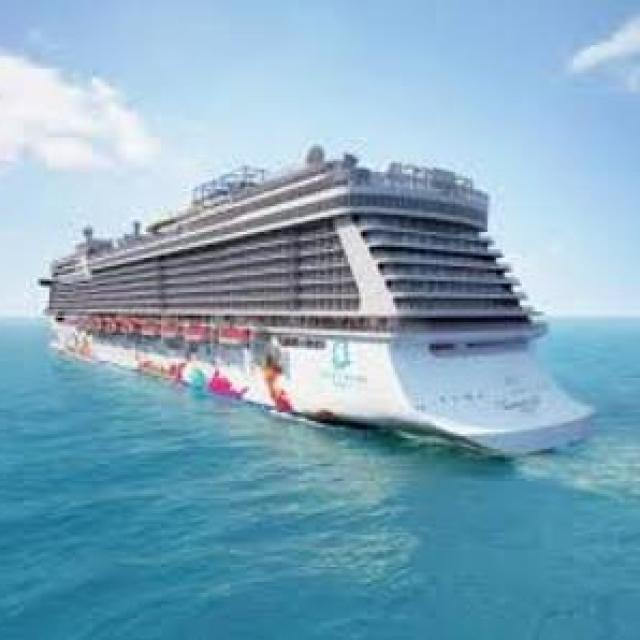passenger ship: (34, 133, 598, 466)
